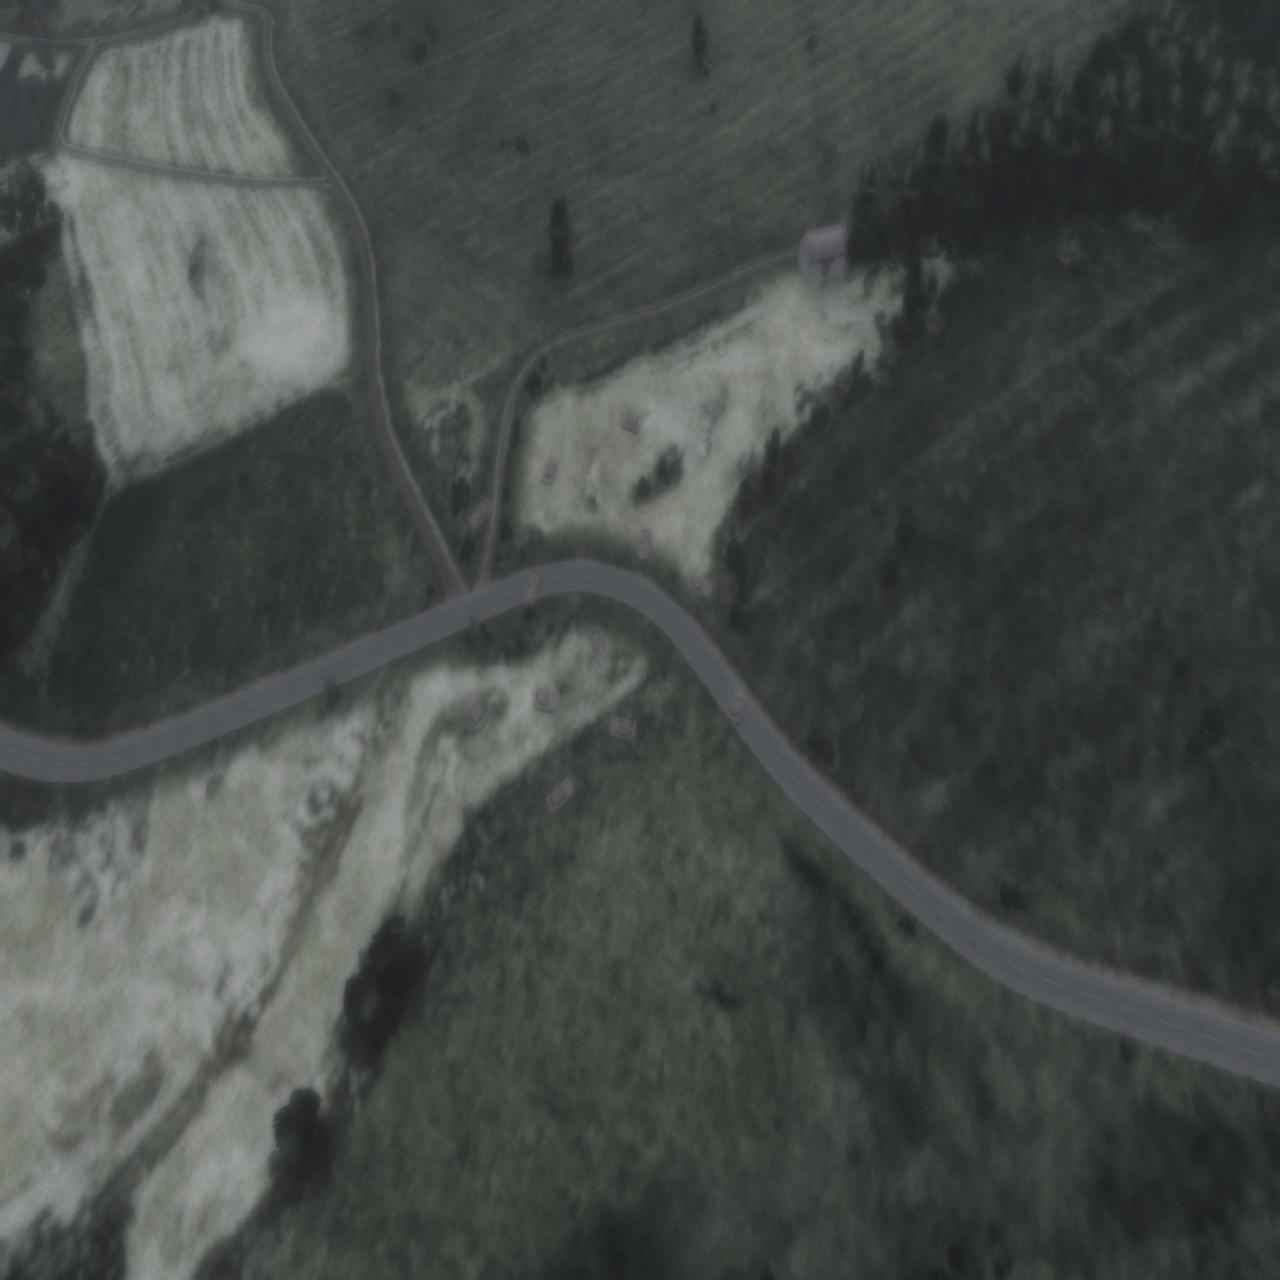MIL_Veh: (545, 765, 583, 816), (520, 566, 544, 614), (727, 679, 749, 729), (602, 713, 636, 745), (588, 622, 612, 669), (462, 689, 486, 734), (532, 683, 563, 715), (688, 571, 715, 606), (465, 498, 493, 529), (618, 404, 645, 435), (635, 526, 654, 564), (540, 455, 559, 489)
